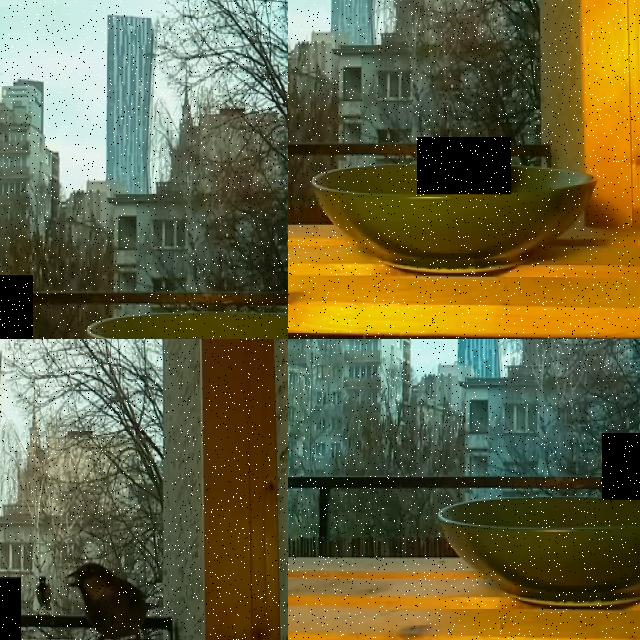Bogatka: (417, 137, 511, 194)
Modraszka: (602, 433, 640, 499), (0, 275, 33, 339)
Wrobel: (64, 560, 152, 640), (0, 577, 21, 640)
